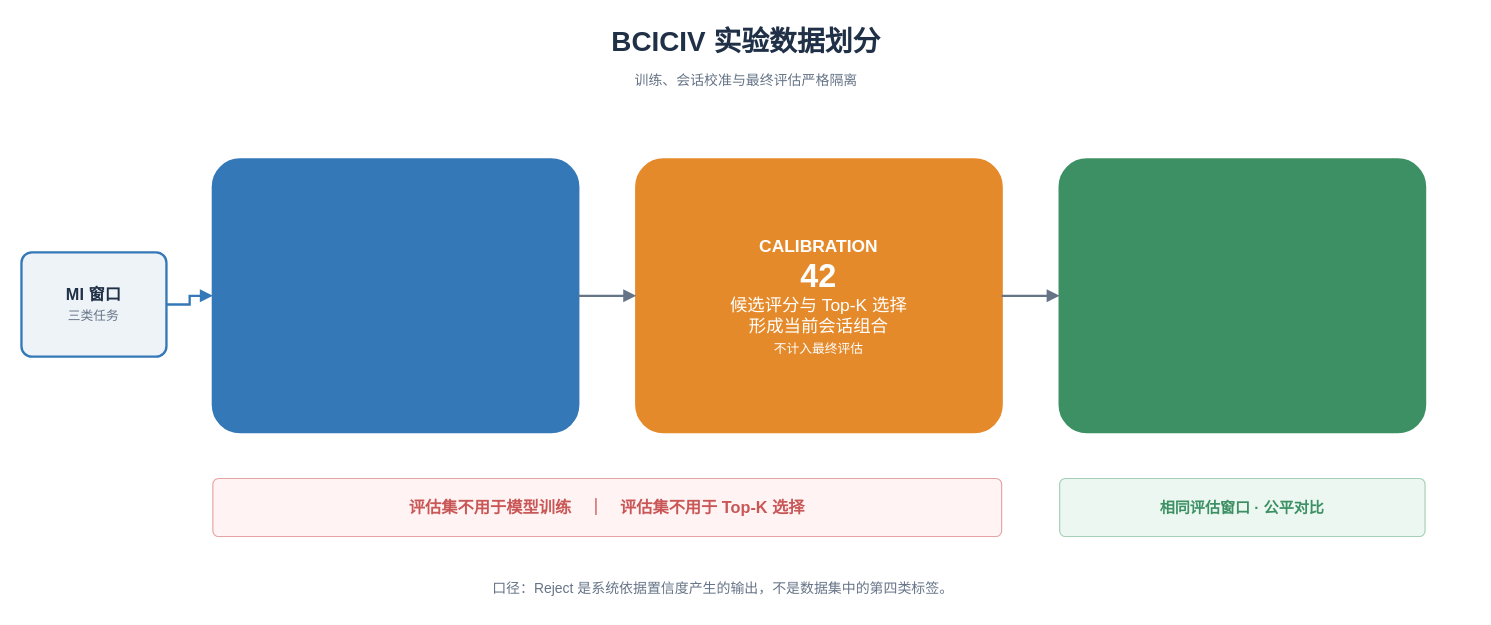
Image size: 1491x625. Some labels were removed from this diagram. The centre of each missing label's shape, as x and y in pixels:
EVALUATION 518 计算最终 Accuracy、Balanced Accepted 与 Reject 指标 不参与训练或候选选择: (1242,295)
TRAIN 840 训练 FBCSP、Embedding 与经验库候选 Heads 拟合模型参数: (395,295)
